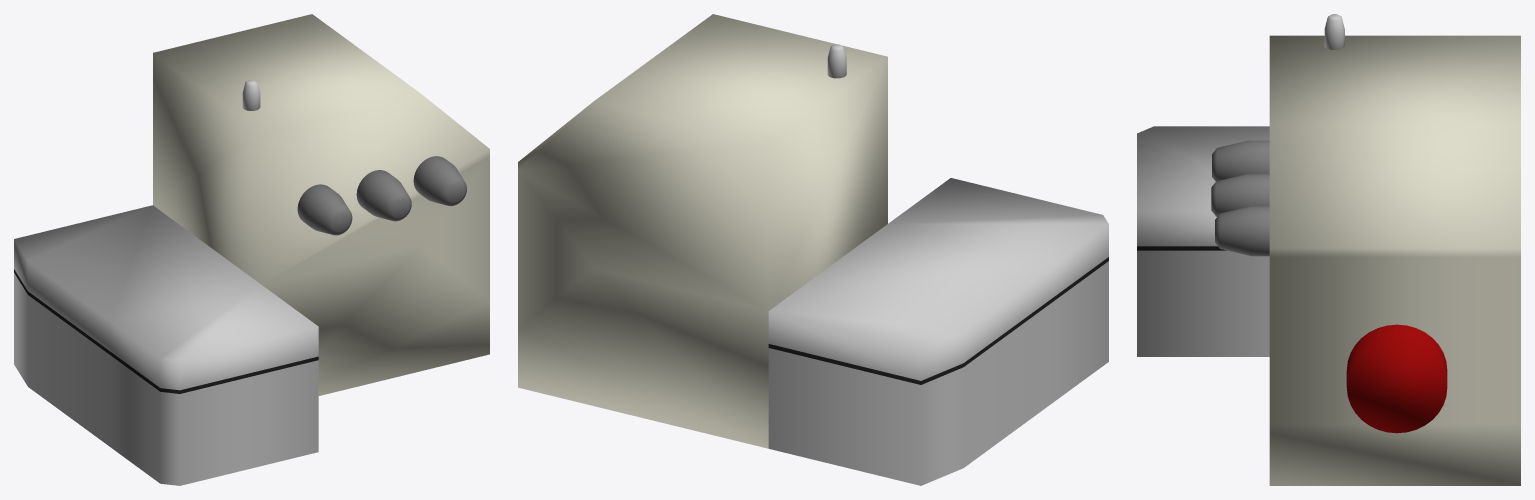
The model's file is PONTO DE CADEIRA 4 FIOS COSTURA.fbx.
3 renders of one model, left to right at view 1: azimuth 30°, elevation 25°; view 2: azimuth 150°, elevation 25°; view 3: azimuth 270°, elevation 25°, orthographic. The views are drawn at different scales.
Parts seen in each view (by area): view 1: Cube, Cube.001, Cylinder.001, Cylinder.002, Cylinder.003, Cylinder.004; view 2: Cube, Cube.001; view 3: Cube, Cube.001, Cylinder, Cylinder.003, Cylinder.002, Cylinder.001, Cylinder.004.
Boxes of the visible parts, box(x1,y1,x2,y2) form: Cube: box(153, 14, 489, 395); Cube.001: box(14, 205, 318, 485); Cylinder.001: box(356, 170, 411, 221); Cylinder.002: box(297, 184, 352, 235); Cylinder.003: box(413, 156, 466, 206); Cylinder.004: box(242, 79, 260, 110); Cube: box(518, 14, 887, 448); Cube.001: box(768, 178, 1108, 485); Cube: box(1269, 35, 1520, 485); Cube.001: box(1137, 126, 1269, 356); Cylinder: box(1346, 324, 1447, 433); Cylinder.003: box(1215, 206, 1269, 256); Cylinder.002: box(1212, 140, 1269, 181); Cylinder.001: box(1211, 174, 1269, 216); Cylinder.004: box(1324, 14, 1344, 49).
Bounding box in the file's own units: 4.11 × 2.9 × 2.87.
